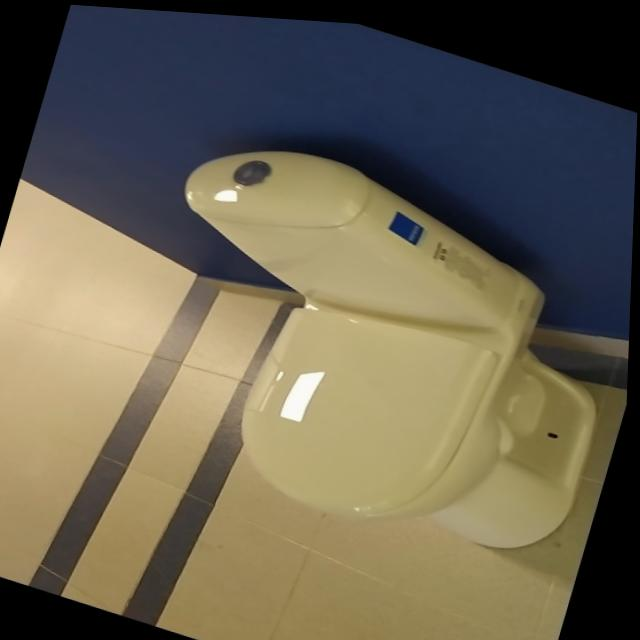toilet: (108, 109, 637, 580)
